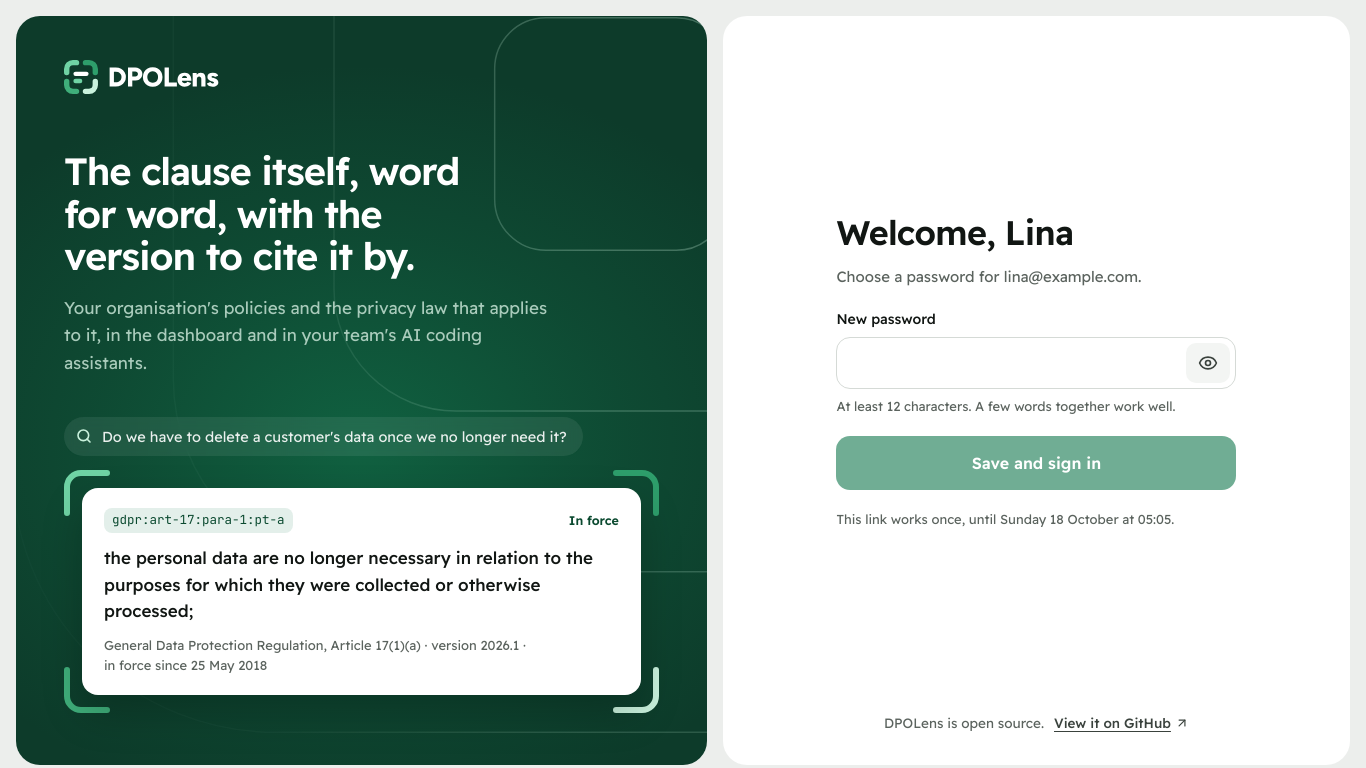
choosing a password from a link › greets the person, sets the password and signs them in
The width and height of the screenshot is (1366, 768).
Expected: the heading "Welcome, Lina" is shown, [836, 211, 1073, 254]
In the password field labelled "New password": (1036, 363) [836, 337, 1236, 389], type "olive harbour lantern"
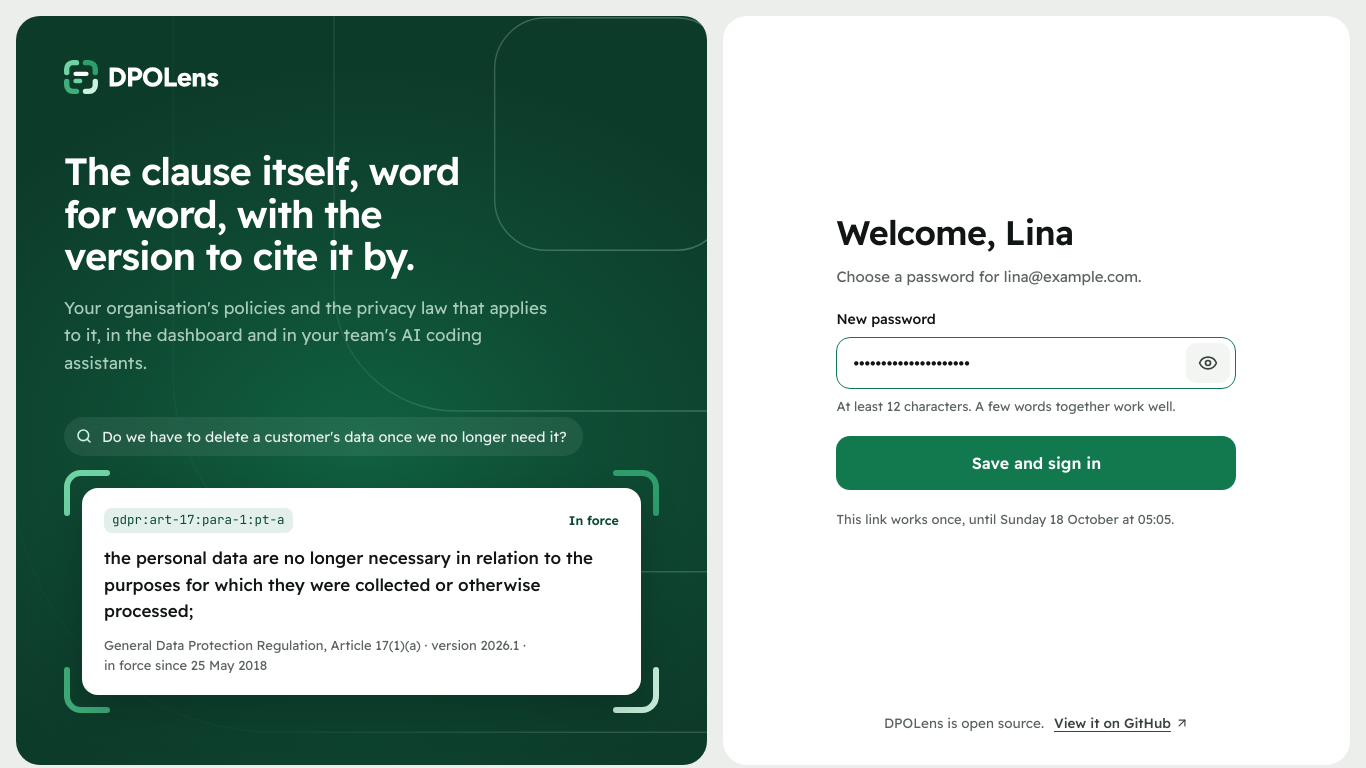
Click the button "Save and sign in": (1036, 463) [836, 436, 1236, 490]
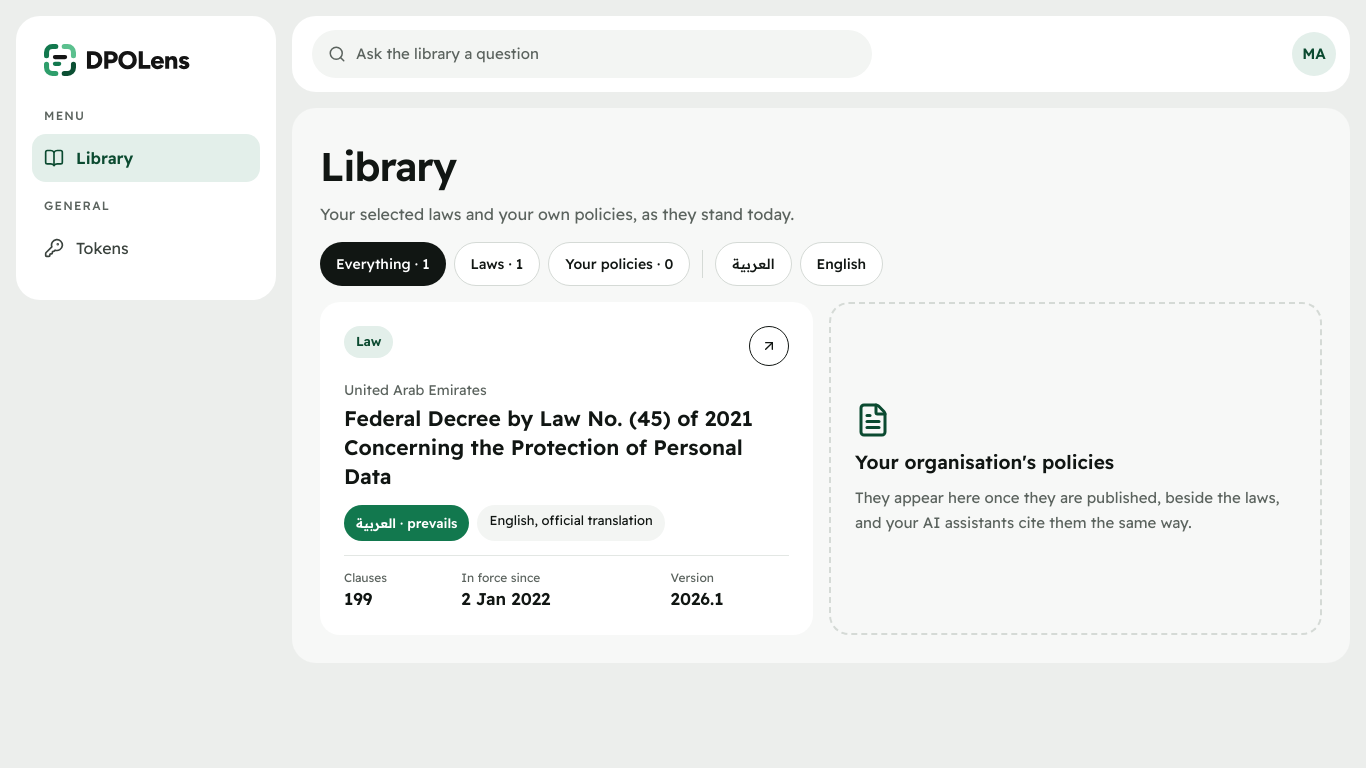
Now the heading "Library" is shown, box [320, 141, 456, 191]
